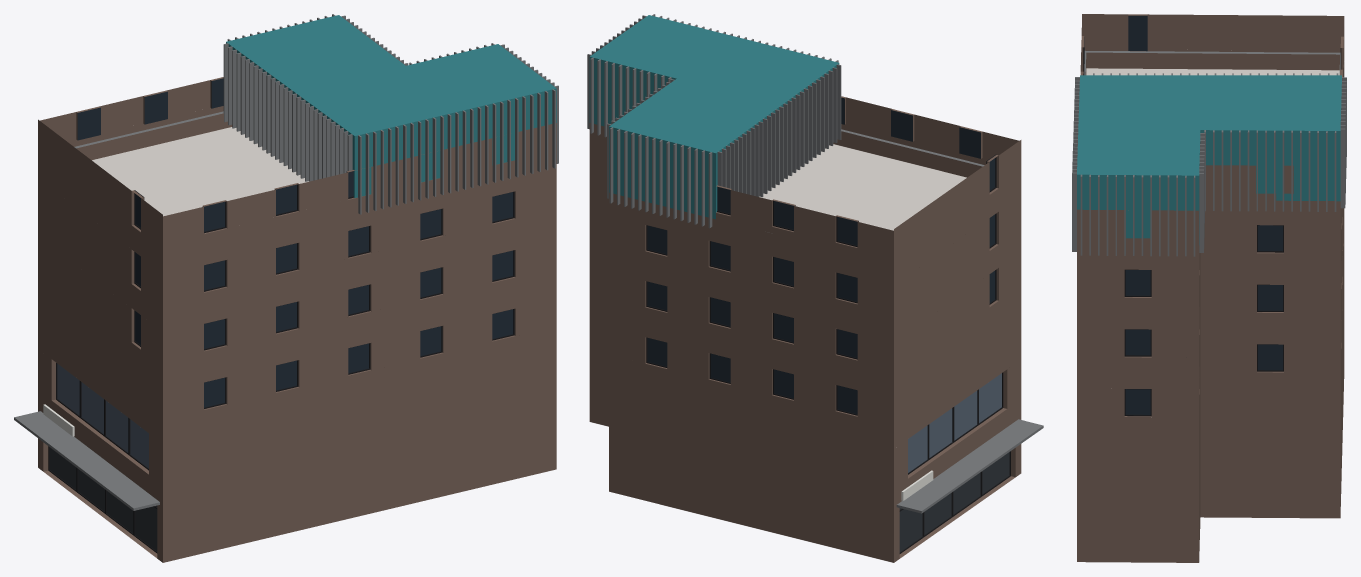
The model's file is cubic525.glb.
The picture shows the model from 3 angles, left to right: view 1: azimuth 30°, elevation 25°; view 2: azimuth 150°, elevation 25°; view 3: azimuth 270°, elevation 25°; orthographic projection. The views are drawn at different scales.
Visible parts, largest first — view 1: cubic525; view 2: cubic525; view 3: cubic525.
Boxes of the visible parts, <box> form: cubic525: <box>14,14,558,562</box>; cubic525: <box>587,14,1043,562</box>; cubic525: <box>1072,14,1346,562</box>.
Bounding box in the file's own units: 25.69 × 22.1 × 14.2.
